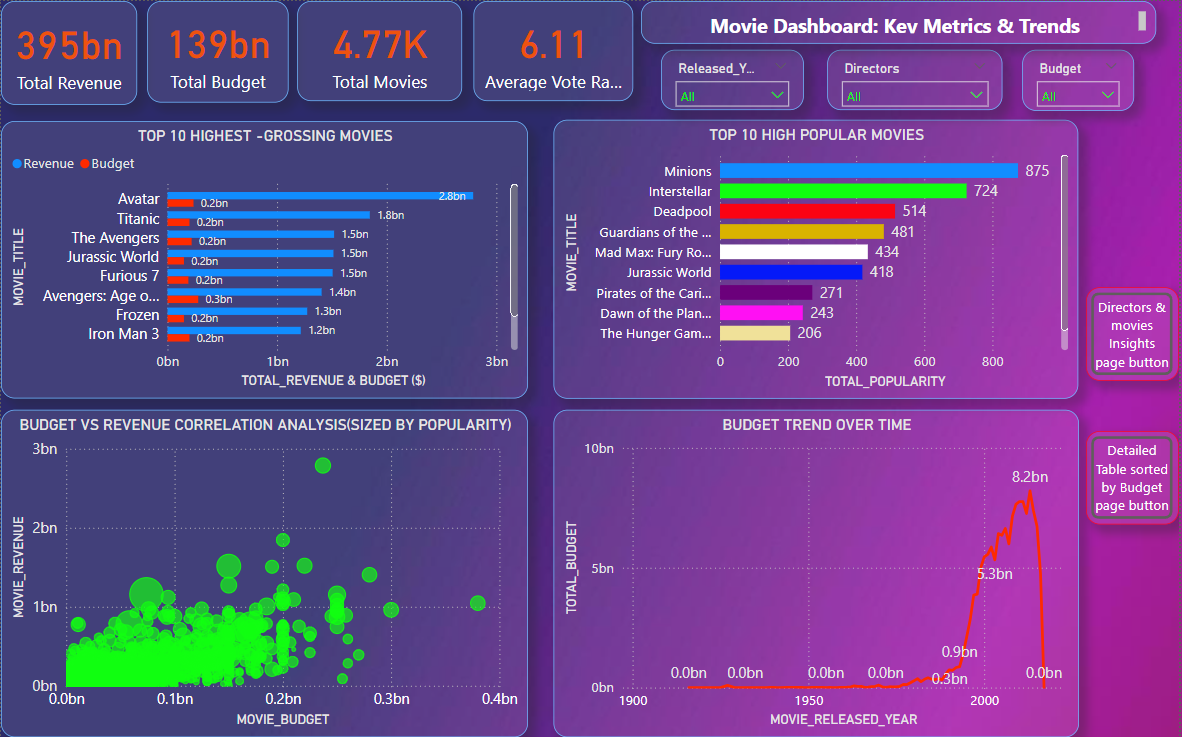

Layout of this report page (visuals, bound fields, positions):
{"tool":"powerbi","page":{"name":"Movie Dashboard: Key Metrics & Trends","canvas":[1280,800],"ordinal":0},"visuals":[{"type":"clusteredBarChart","title":"TOP 10 HIGHEST -GROSSING MOVIES","fields":{"Category":["Sheet1.original_title"],"Y":["Sum(Sheet1.revenue)","Sum(Sheet1.budget)"]},"box":[0,129.9,573.1,301.7],"z":0},{"type":"scatterChart","title":"BUDGET VS REVENUE CORRELATION ANALYSIS(SIZED BY  POPULARITY)","fields":{"X":["Sheet1.budget"],"Y":["Sheet1.revenue"],"Size":["Sum(Sheet1.popularity)"]},"box":[0,444.2,572.6,355.6],"z":1000},{"type":"barChart","title":"TOP 10 HIGH POPULAR MOVIES","fields":{"Category":["Sheet1.original_title"],"Y":["Sum(Sheet1.popularity)"]},"box":[600.5,129.1,570.7,303],"z":2000},{"type":"slicer","fields":{"Values":["Sheet1.name"]},"box":[897.6,53.6,190.7,65.6],"z":3000},{"type":"slicer","fields":{"Values":["Sheet1.released_year"]},"box":[717.6,53.6,155,65.6],"z":4000},{"type":"slicer","fields":{"Values":["Sheet1.budget"]},"box":[1109.8,53.6,121.6,66.8],"z":5000},{"type":"card","fields":{"Values":["Sum(Sheet1.revenue)"]},"box":[0,0,148,112.5],"z":6000},{"type":"card","fields":{"Values":["Sum(Sheet1.budget)"]},"box":[159,0,153.5,110.1],"z":7000},{"type":"card","fields":{"Values":["CountNonNull(Sheet1.original_title)"]},"box":[322,0,179.3,108.7],"z":8000},{"type":"card","fields":{"Values":["Avg(Sheet1.vote_average)"]},"box":[513.6,0,173.9,108.7],"z":9000},{"type":"lineChart","title":"BUDGET TREND OVER TIME ","fields":{"Category":["Sheet1.released_year"],"Y":["Sum(Sheet1.budget)"]},"box":[599.9,444.2,571.5,355.6],"z":10000},{"type":"textbox","box":[696.1,0,560.3,46.5],"z":11000},{"type":"actionButton","box":[1179.4,311.1,100.5,101.9],"z":12000},{"type":"actionButton","box":[1179.4,467.4,100.5,101.9],"z":13000}]}

Visuals, with their boxes in screenshot pixels (x1, y1, x2, y2), scaled from the page's 1280x800 canvas onto the 1182x737 screenshot:
"TOP 10 HIGHEST -GROSSING MOVIES" clusteredBarChart: 0/120/529/398
"BUDGET VS REVENUE CORRELATION ANALYSIS(SIZED BY  POPULARITY)" scatterChart: 0/409/529/736
"TOP 10 HIGH POPULAR MOVIES" barChart: 555/119/1082/398
slicer - Sheet1.name: 829/49/1005/110
slicer - Sheet1.released_year: 663/49/806/110
slicer - Sheet1.budget: 1025/49/1137/111
card - Sum(Sheet1.revenue): 0/0/137/104
card - Sum(Sheet1.budget): 147/0/289/101
card - CountNonNull(Sheet1.original_title): 297/0/463/100
card - Avg(Sheet1.vote_average): 474/0/635/100
"BUDGET TREND OVER TIME " lineChart: 554/409/1082/736
textbox: 643/0/1160/43
actionButton: 1089/287/1181/380
actionButton: 1089/431/1181/524
